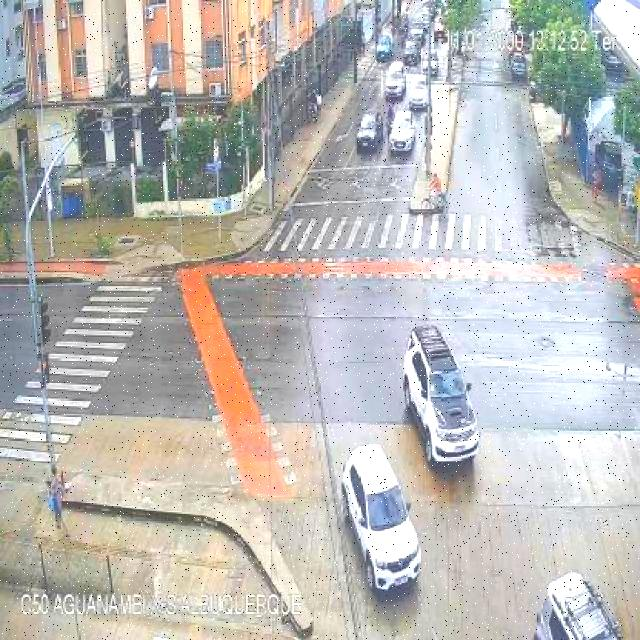Car: (339, 446, 420, 596), (402, 325, 480, 465), (532, 572, 624, 639), (388, 111, 416, 153), (355, 113, 383, 151), (384, 62, 406, 98), (408, 76, 430, 109), (402, 38, 421, 66), (509, 52, 528, 80), (376, 34, 393, 62), (433, 16, 447, 42)
